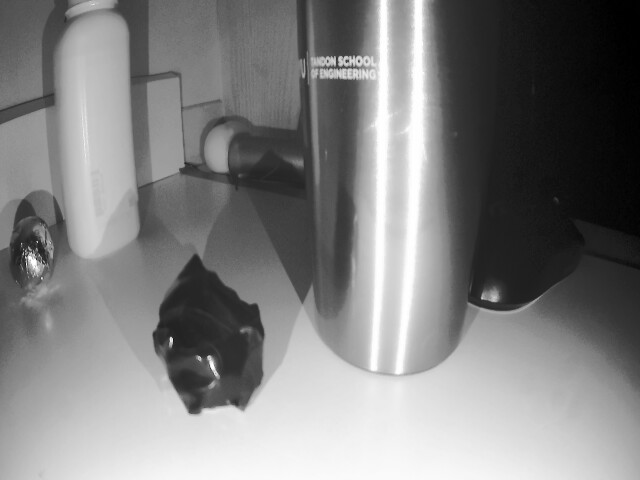black: (11, 213, 59, 300)
silver: (144, 263, 265, 414)
